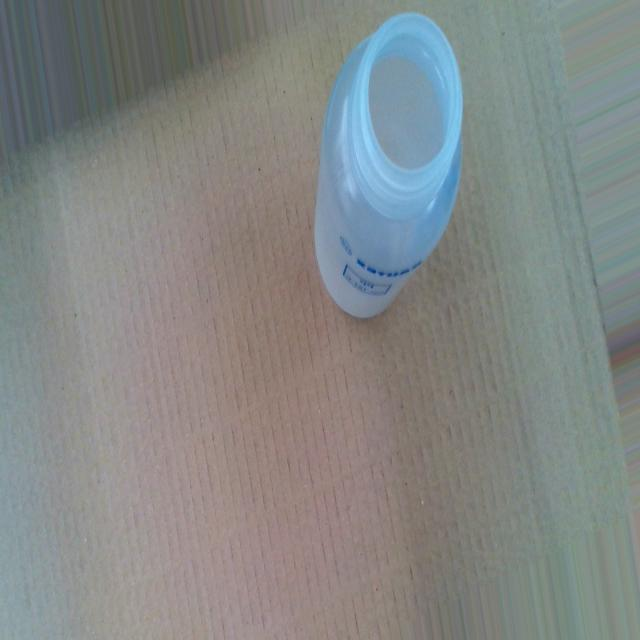bottle: (311, 7, 465, 324)
